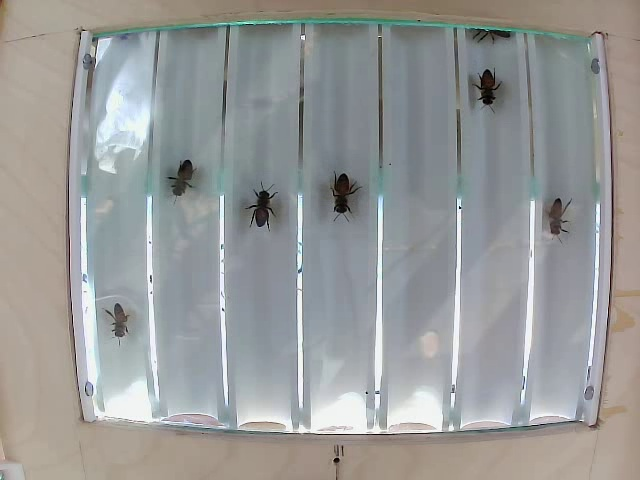bee: (327, 168, 362, 230), (243, 179, 277, 233), (471, 62, 505, 111), (165, 154, 198, 204), (104, 293, 131, 345), (542, 187, 569, 235)
